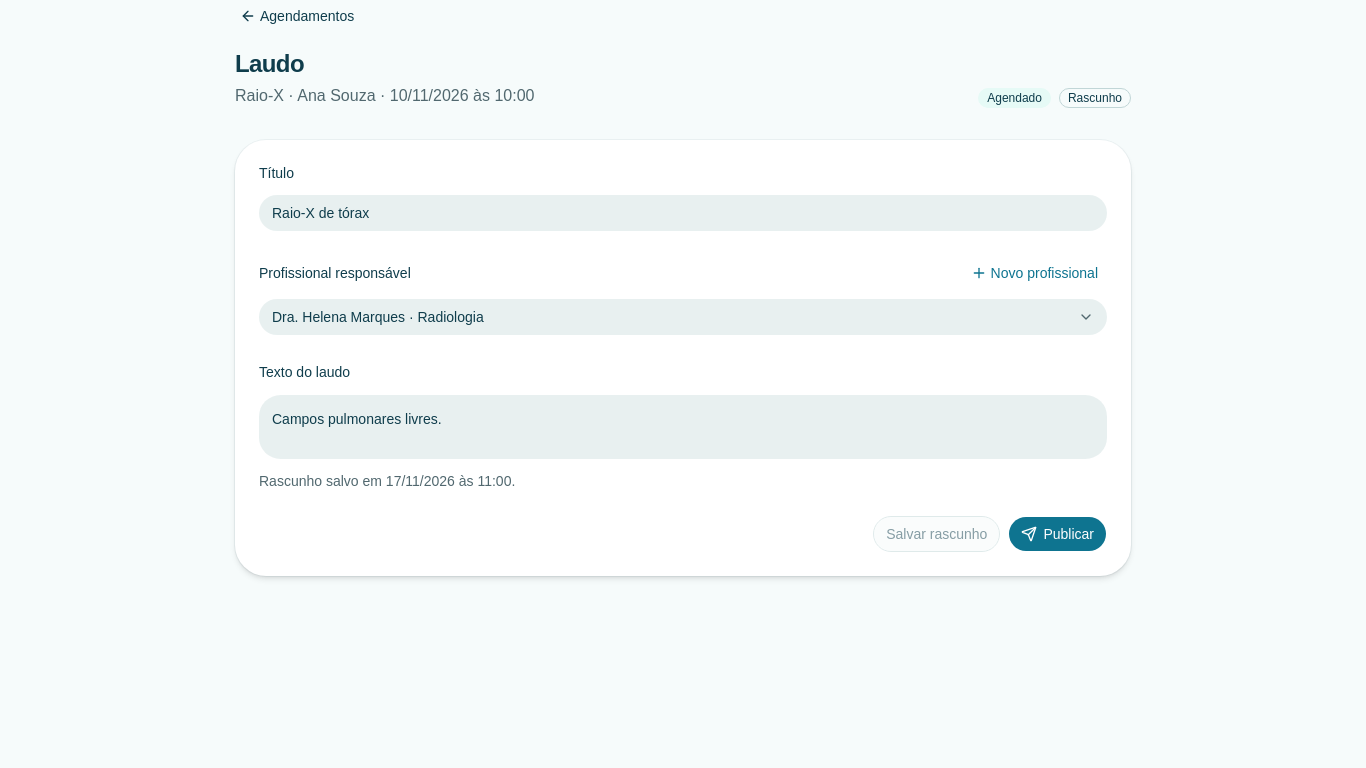
Test: ReportPage › publishes the draft after confirmation and switches to read-only
Click the button "Publicar".
click(1058, 534)  # box [1008,516,1107,552]
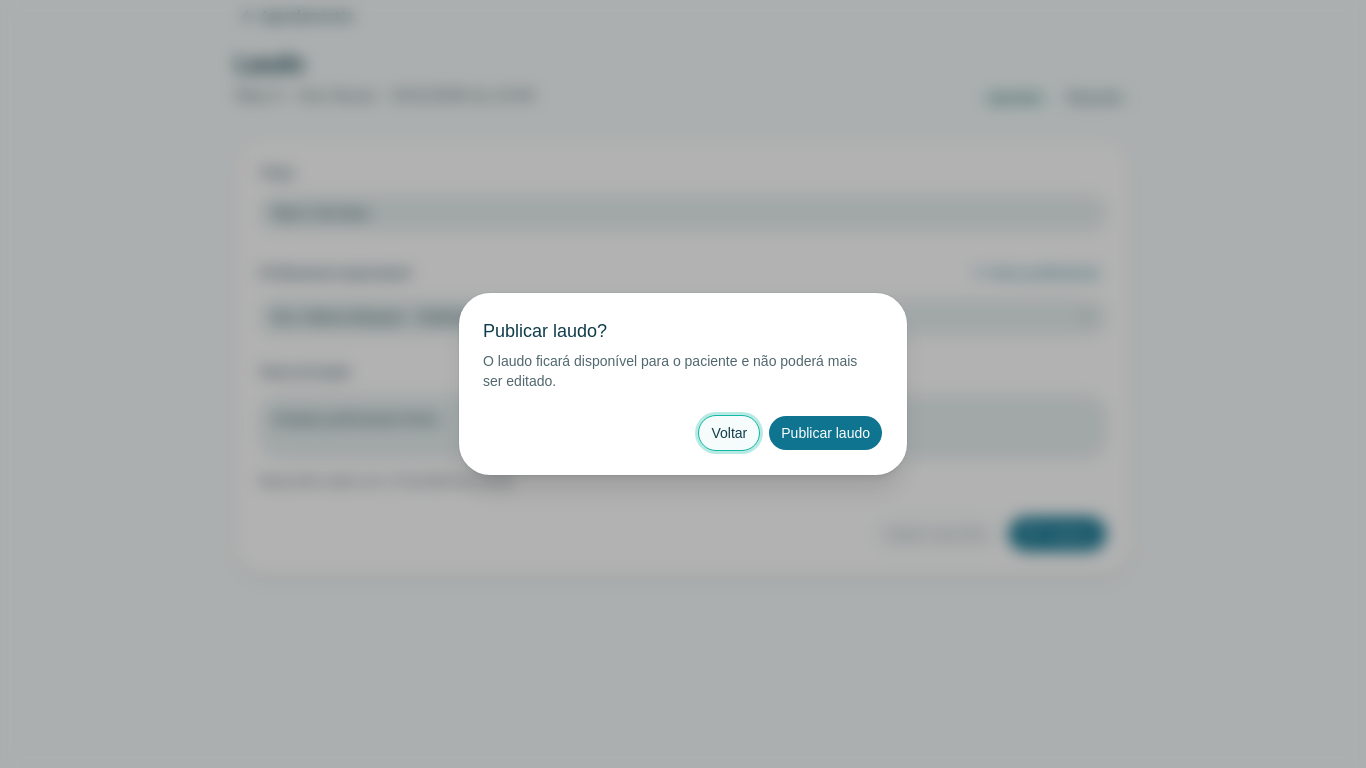
Click the button "Publicar laudo".
click(826, 433)  # box [768,415,883,451]
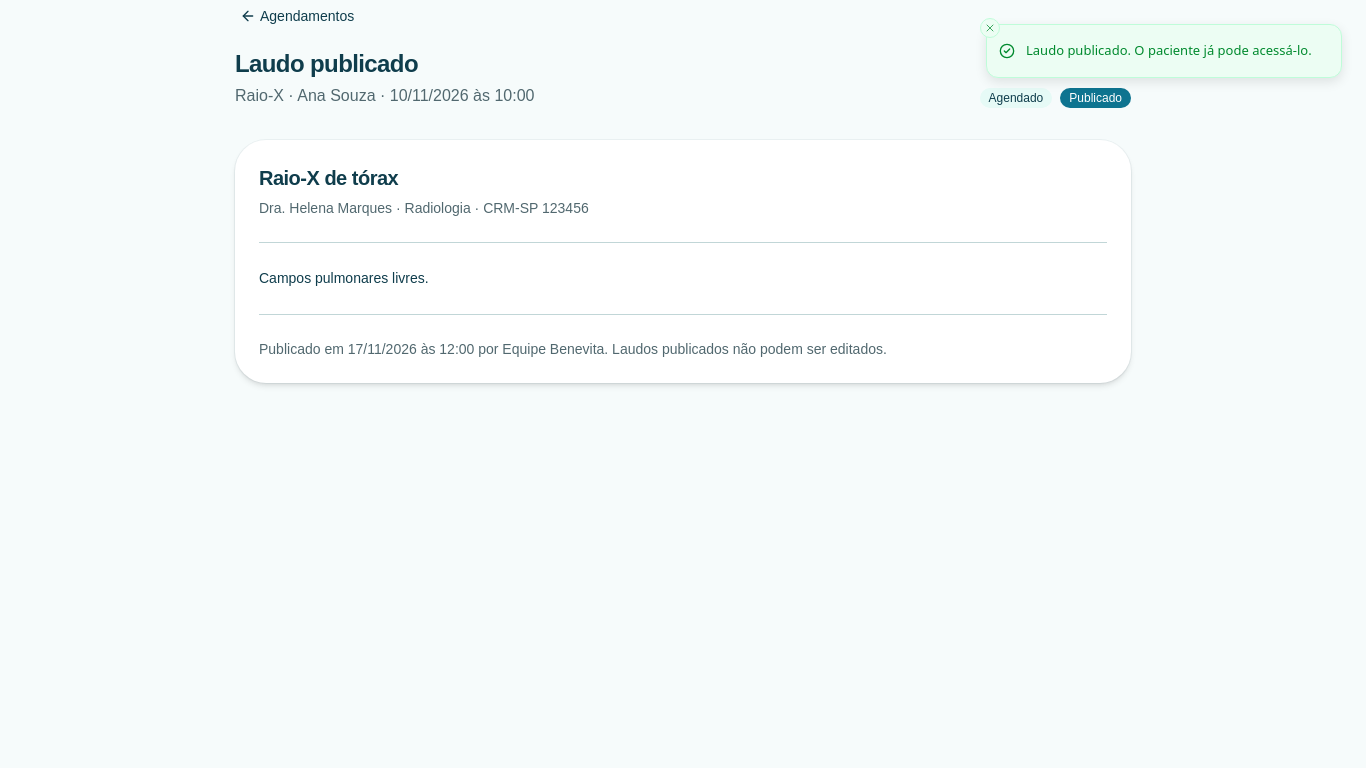
Result: the heading "Laudo publicado" is shown at [235,50,418,77]
Result: the label labelled "Texto do laudo" is gone
